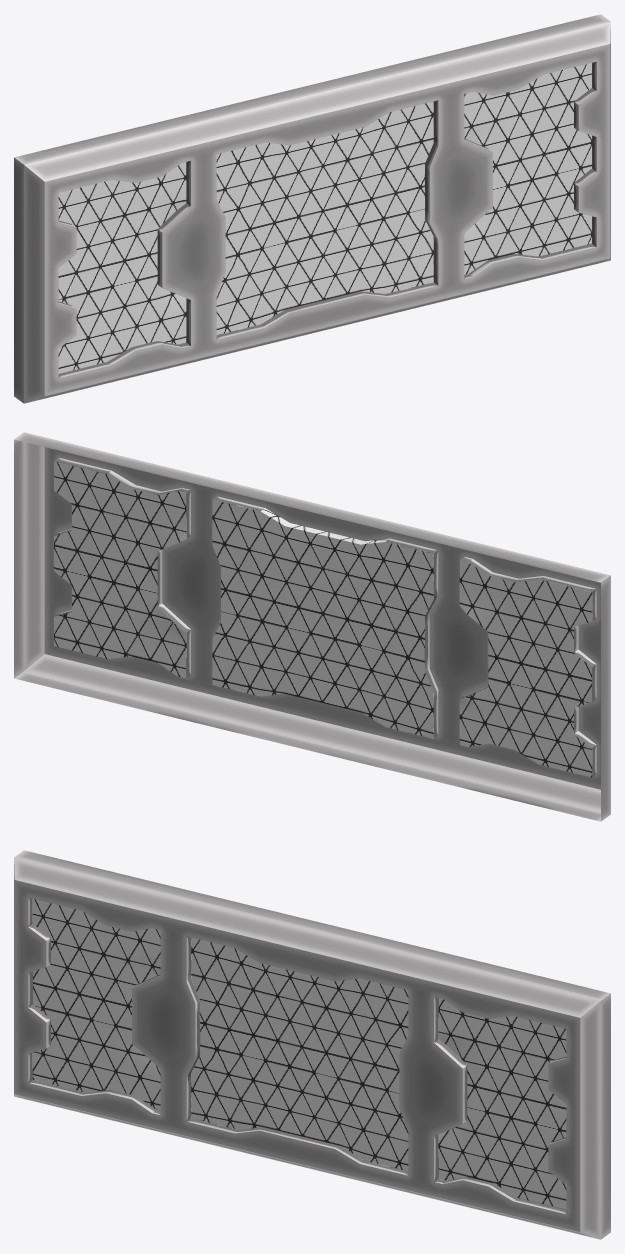
The model's file is LampWallL.fbx.
The picture shows the model from 3 angles, top to bottom: view 1: azimuth 30°, elevation 25°; view 2: azimuth 150°, elevation 25°; view 3: azimuth 330°, elevation 25°; orthographic projection.
Visible parts, largest first — view 1: lampWall_LOD0; view 2: lampWall_LOD0; view 3: lampWall_LOD0.
Boxes of the visible parts, <box> form: lampWall_LOD0: <box>14,14,610,403</box>; lampWall_LOD0: <box>14,432,610,821</box>; lampWall_LOD0: <box>14,850,610,1239</box>.
Size of what is drawn, in the model's own units: 1.17 by 0.4547 by 0.0696.
